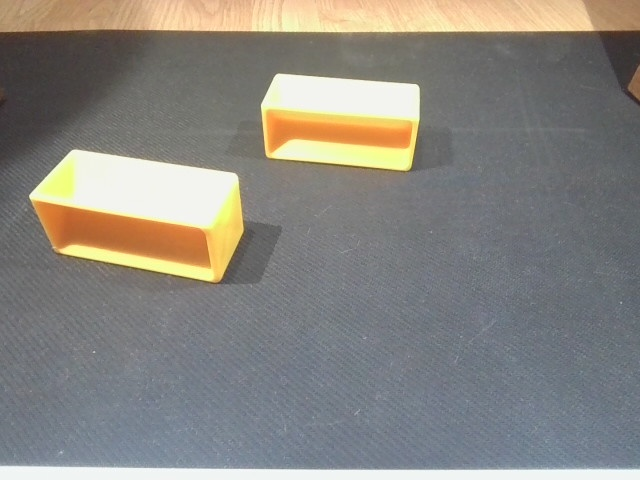YellowSample: (21, 148, 248, 285), (255, 70, 424, 175)
